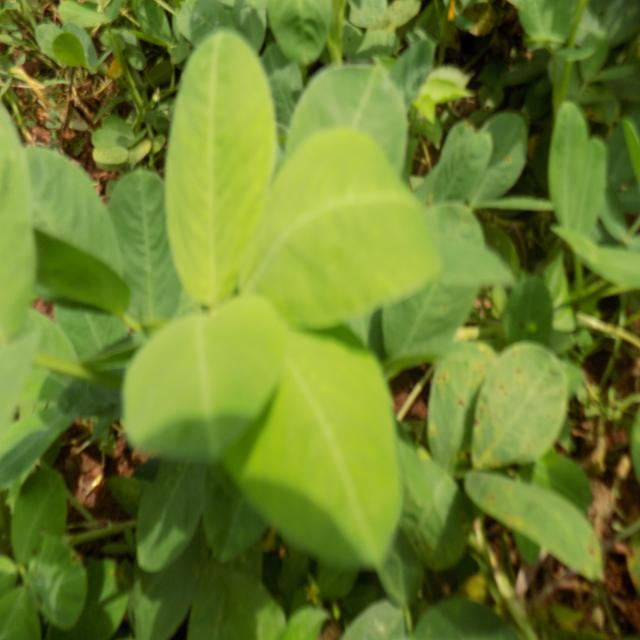Ground nut_healthy: (200, 302, 398, 567), (234, 131, 437, 329), (163, 24, 275, 304), (288, 58, 404, 296), (124, 310, 284, 459), (4, 144, 133, 321), (380, 198, 484, 371)
